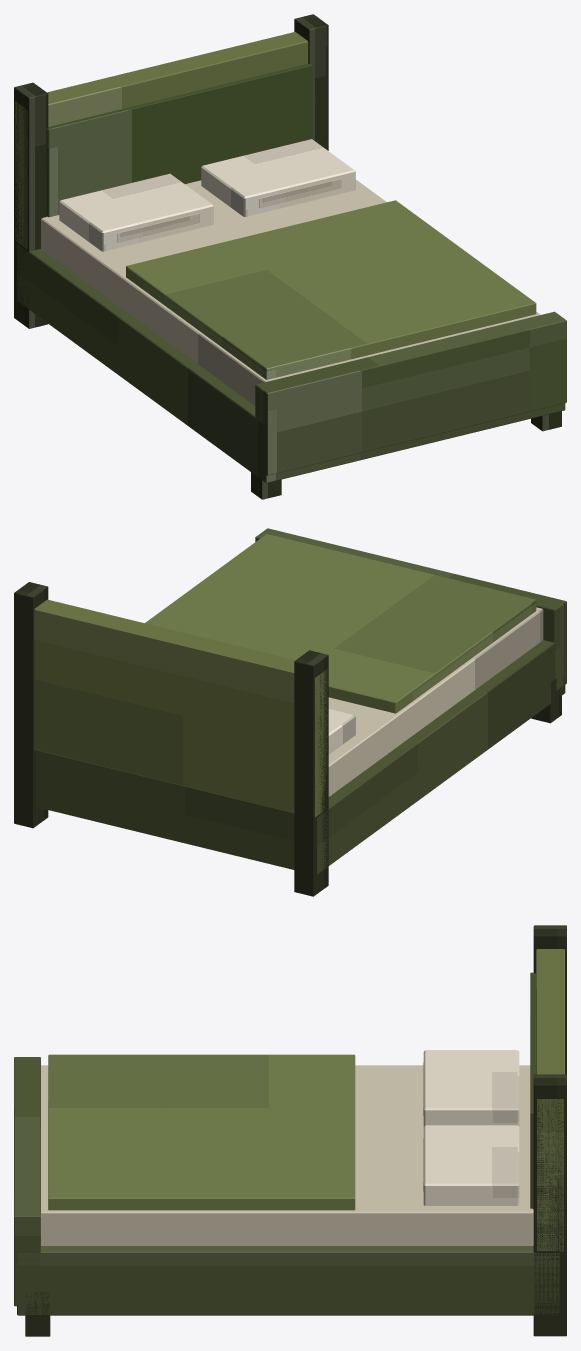
Rendered from double_bed_olive.glb.
The picture shows the model from 3 angles, top to bottom: view 1: azimuth 30°, elevation 25°; view 2: azimuth 150°, elevation 25°; view 3: azimuth 270°, elevation 25°; orthographic projection. The views are drawn at different scales.
Visible parts, largest first — view 1: Blanket, Footboard, HeadboardInset, BedFrame, Mattress, HeadboardPanel, Pillow_1, Pillow_2, HeadPostL, HeadPostR, PillowBand_1, PillowBand_2; view 2: HeadboardPanel, Blanket, BedFrame, Mattress, HeadPostL, HeadPostR, Footboard, Pillow_1, FootL; view 3: Blanket, BedFrame, Mattress, Pillow_2, HeadboardPanel, HeadPostR, Pillow_1, Footboard, HeadboardInset, HeadPostL, FootR.
Part boxes in pixels (x1=…): Blanket: x1=126, y1=200, x2=536, y2=379; Footboard: x1=255, y1=311, x2=566, y2=475; HeadboardInset: x1=47, y1=63, x2=312, y2=217; BedFrame: x1=17, y1=244, x2=565, y2=483; Mattress: x1=41, y1=179, x2=540, y2=405; HeadboardPanel: x1=15, y1=32, x2=308, y2=249; Pillow_1: x1=59, y1=173, x2=213, y2=251; Pillow_2: x1=201, y1=139, x2=355, y2=216; HeadPostL: x1=14, y1=82, x2=48, y2=328; HeadPostR: x1=294, y1=14, x2=328, y2=150; PillowBand_1: x1=117, y1=213, x2=199, y2=242; PillowBand_2: x1=259, y1=178, x2=341, y2=207; HeadboardPanel: x1=34, y1=599, x2=327, y2=817; Blanket: x1=145, y1=534, x2=536, y2=713; BedFrame: x1=36, y1=640, x2=565, y2=874; Mattress: x1=328, y1=607, x2=543, y2=796; HeadPostL: x1=294, y1=650, x2=328, y2=896; HeadPostR: x1=14, y1=582, x2=48, y2=828; Footboard: x1=255, y1=528, x2=566, y2=690; Pillow_1: x1=328, y1=709, x2=355, y2=754; FootL: x1=531, y1=678, x2=561, y2=723; Blanket: x1=48, y1=1054, x2=355, y2=1210; BedFrame: x1=17, y1=1245, x2=559, y2=1315; Mattress: x1=41, y1=1065, x2=533, y2=1245; Pillow_2: x1=423, y1=1125, x2=519, y2=1205; HeadboardPanel: x1=536, y1=949, x2=564, y2=1251; HeadPostR: x1=533, y1=1074, x2=566, y2=1336; Pillow_1: x1=423, y1=1050, x2=519, y2=1126; Footboard: x1=14, y1=1057, x2=40, y2=1306; HeadboardInset: x1=530, y1=972, x2=535, y2=1209; HeadPostL: x1=533, y1=925, x2=566, y2=1074; FootR: x1=25, y1=1292, x2=50, y2=1336.
Bounding box in the file's own units: 1.82 × 1.34 × 2.66.
Materials: 1 (1 with a texture image).
